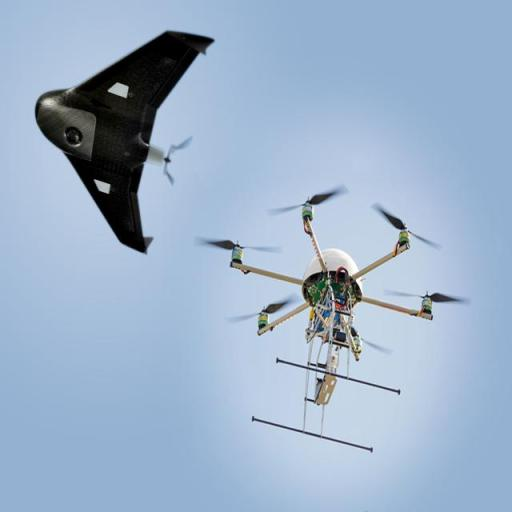uav: (22, 23, 220, 269)
